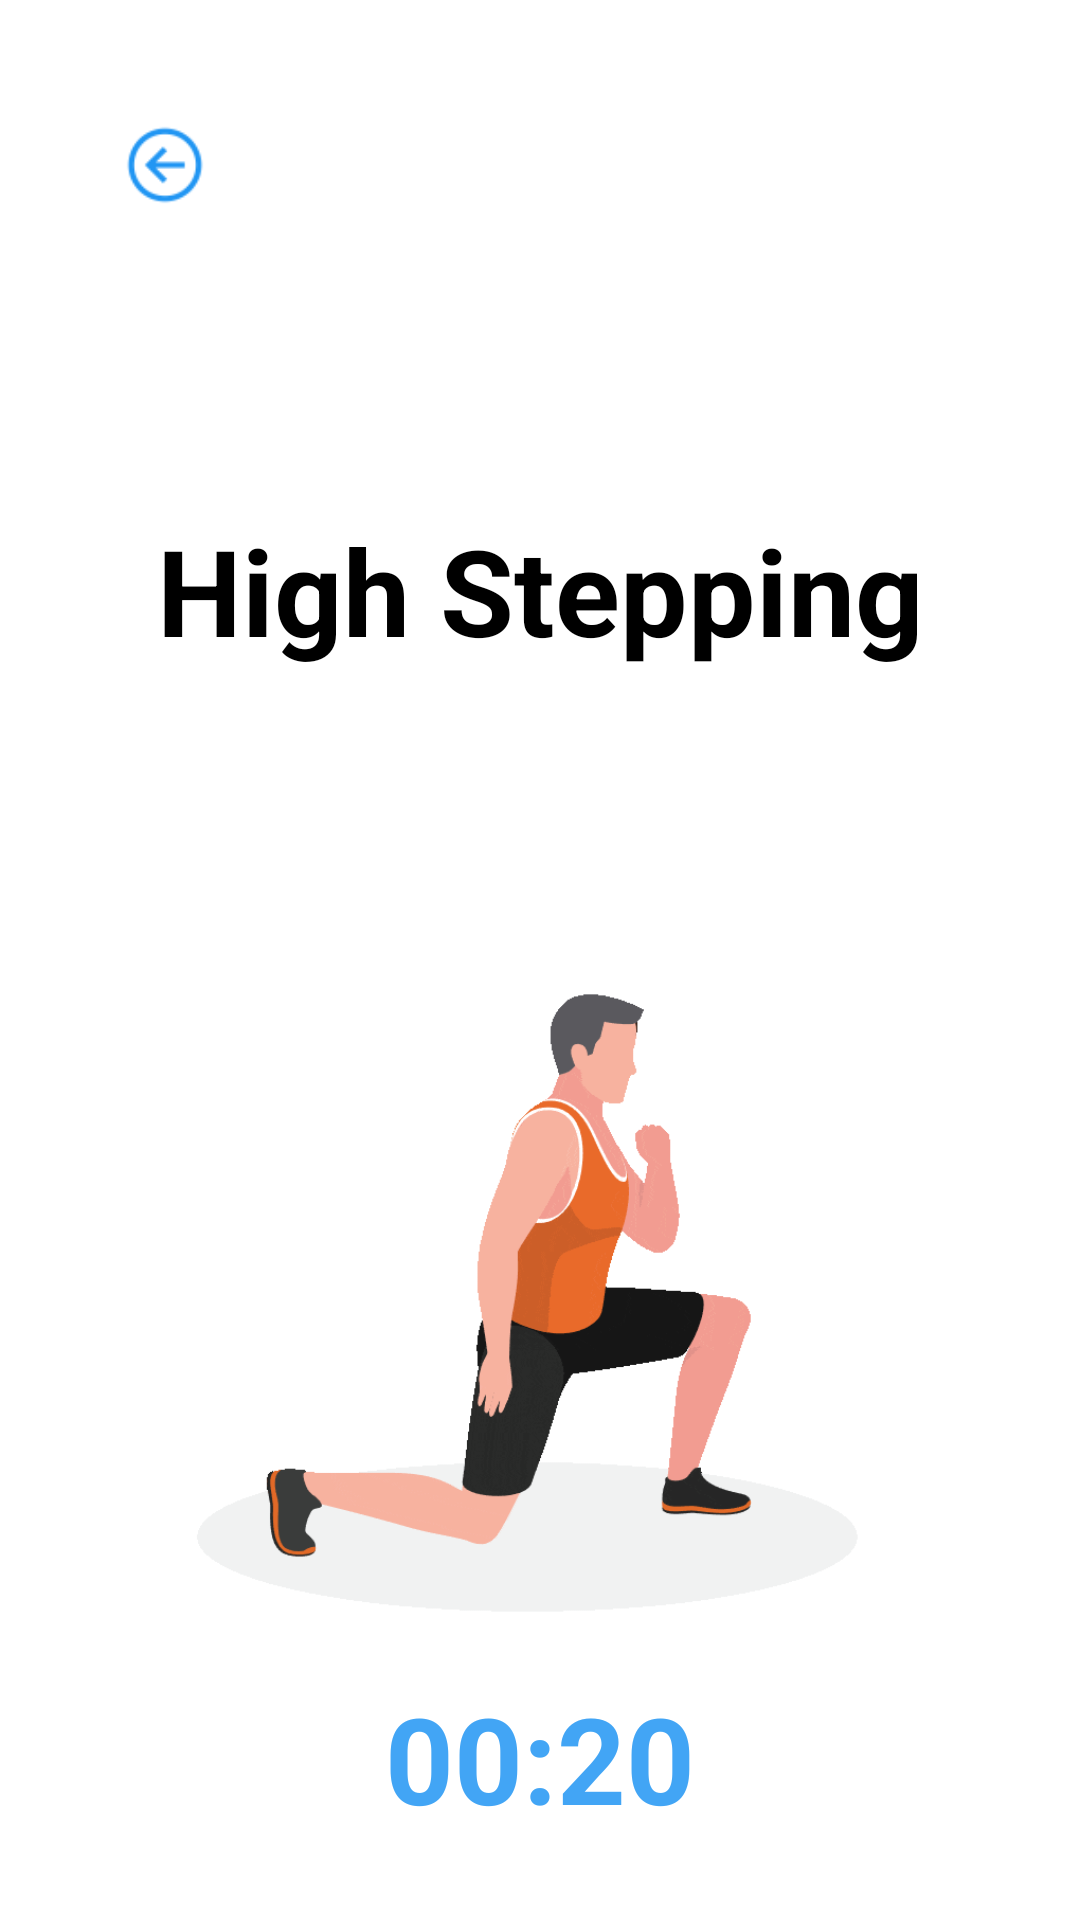

Locate icon controls on the screen. Image size 1080px×1920px, boxes as bbox=(x1, y1, x2, y2).
backbutton: bbox=(127, 127, 203, 203)
